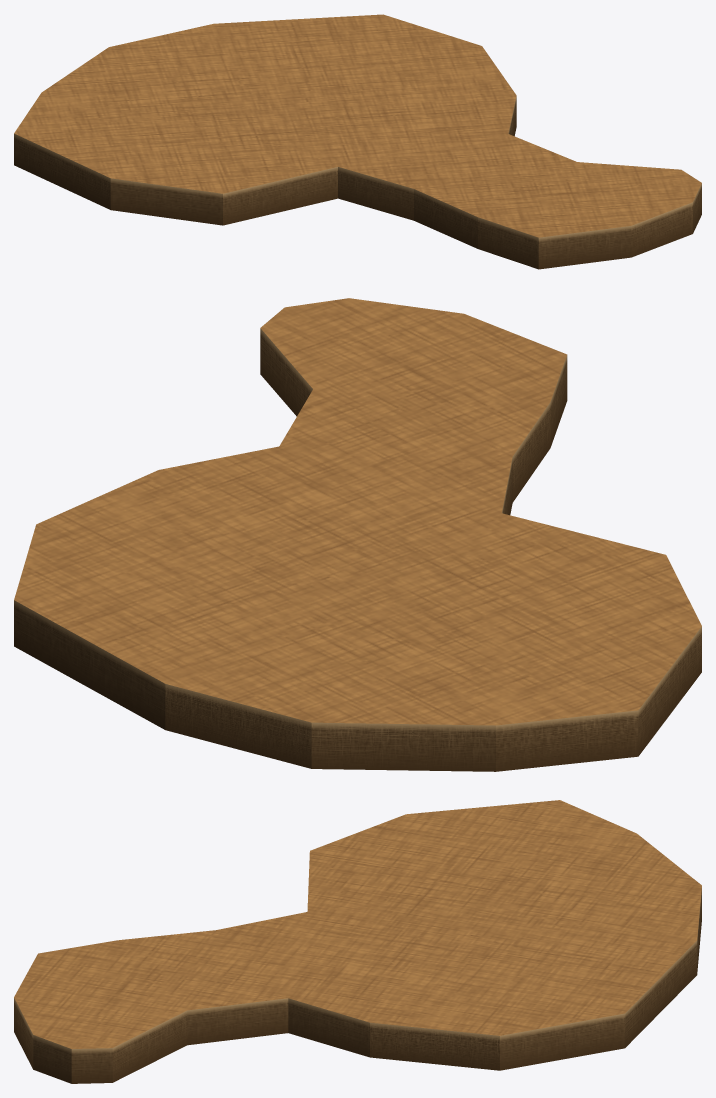
File: Terrain04_B.FBX
The picture shows the model from 3 angles, top to bottom: view 1: azimuth 30°, elevation 25°; view 2: azimuth 150°, elevation 25°; view 3: azimuth 270°, elevation 25°; orthographic projection. The views are drawn at different scales.
Parts seen in each view (by area): view 1: Terrain04_B; view 2: Terrain04_B; view 3: Terrain04_B.
Part boxes in pixels (left/top/right/bottom): Terrain04_B: left=14, top=14, right=701, bottom=269; Terrain04_B: left=14, top=298, right=701, bottom=771; Terrain04_B: left=14, top=800, right=701, bottom=1083.
Bounding box in the file's own units: 765 × 49.97 × 893.
1 material, 1 textured.
